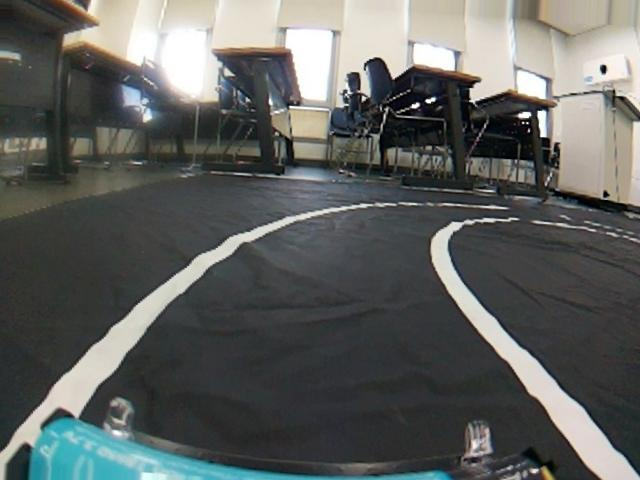right: (4, 187, 636, 476)
